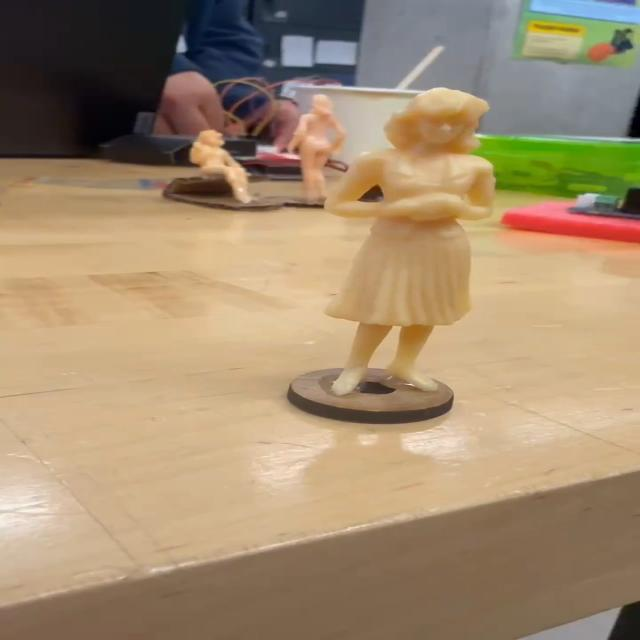Unauthorized: (298, 78, 498, 404)
